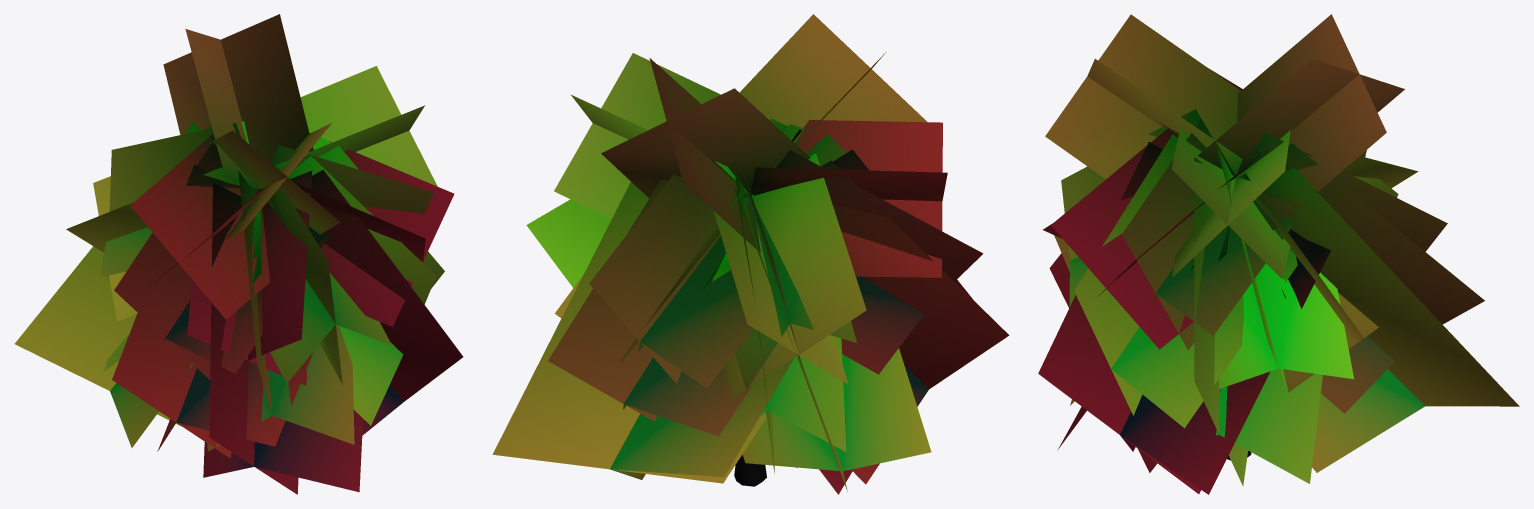
Rendered from Super_11_12.fbx.
3 views of the same model, side by side, from view 1: azimuth 30°, elevation 25°; view 2: azimuth 150°, elevation 25°; view 3: azimuth 270°, elevation 25° (orthographic). The views are drawn at different scales.
Visible parts, largest first — view 1: Super_11_12; view 2: Super_11_12; view 3: Super_11_12.
Boxes of the visible parts, <box> form: Super_11_12: <box>14,14,463,494</box>; Super_11_12: <box>492,14,1009,494</box>; Super_11_12: <box>1038,14,1519,494</box>.
Bounding box in the file's own units: 1367 × 1423 × 1396.
